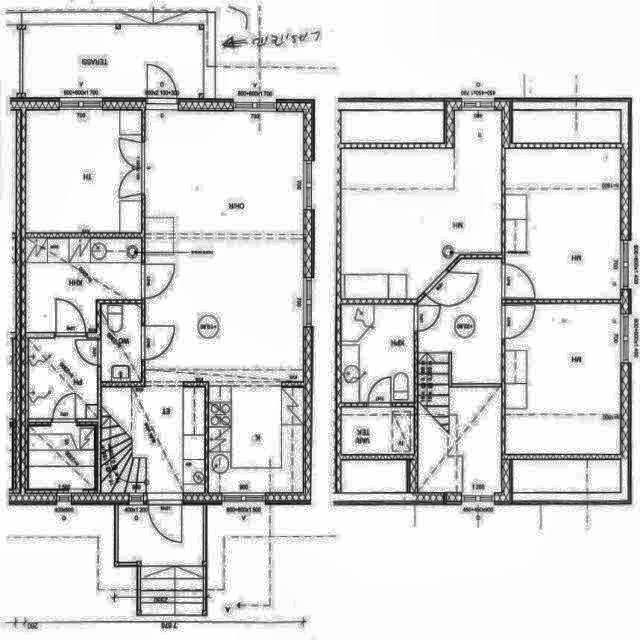room: (506, 304, 620, 453), (506, 149, 619, 298), (26, 110, 142, 233), (26, 239, 141, 332), (208, 386, 304, 494), (342, 305, 413, 402), (29, 338, 98, 419), (29, 426, 95, 490), (341, 408, 414, 455), (101, 304, 142, 382)
